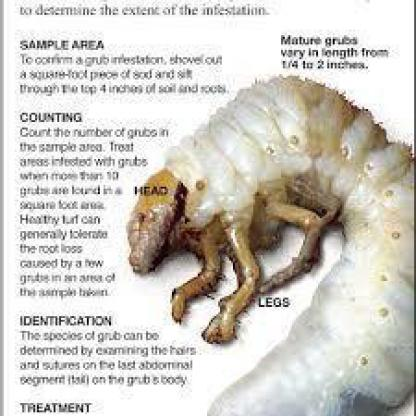root grubs: (126, 77, 414, 410)
